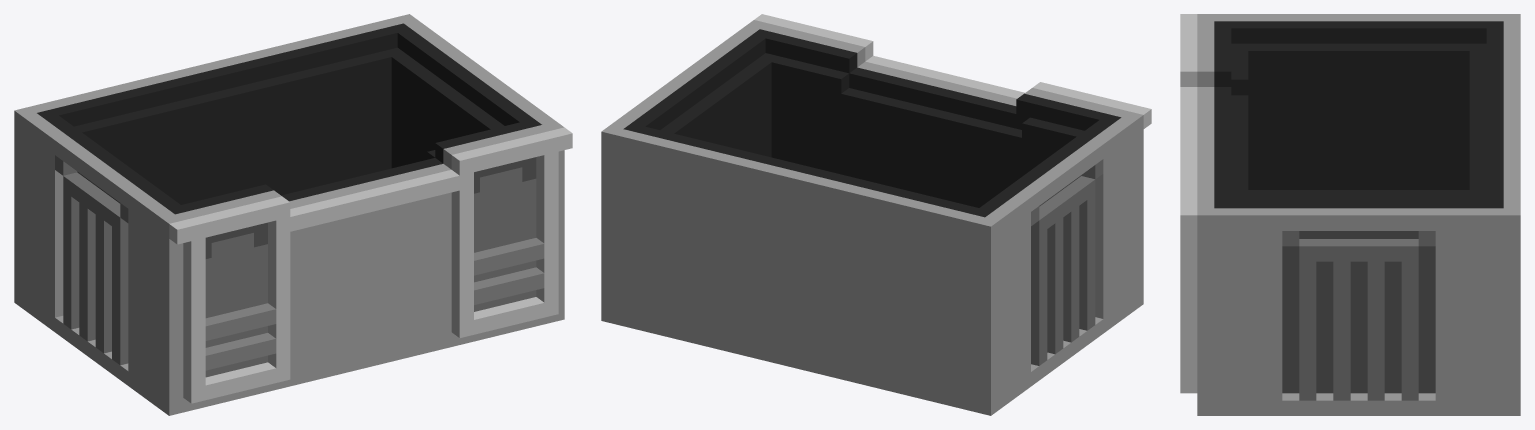
The model's file is voxel_chest-1.obj.
3 renders of one model, left to right at view 1: azimuth 30°, elevation 25°; view 2: azimuth 150°, elevation 25°; view 3: azimuth 270°, elevation 25°, orthographic. The views are drawn at different scales.
Bounding box in the file's own units: 2.8 × 1.3 × 2.
1 material, 1 textured.
